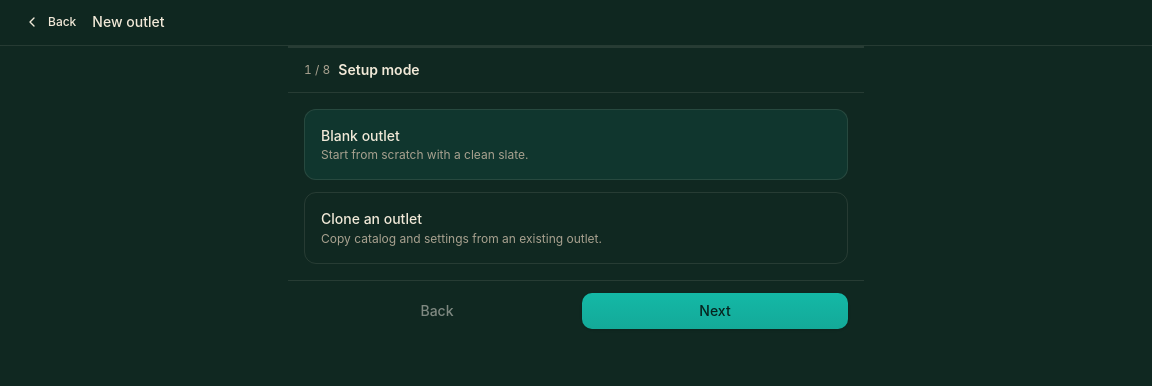
Test: CockpitOutletNew wizard › step 1: blocks Next when code matches an existing outlet code
Click the button with test id "btn-next".
click(715, 310)  # box [582, 292, 848, 328]
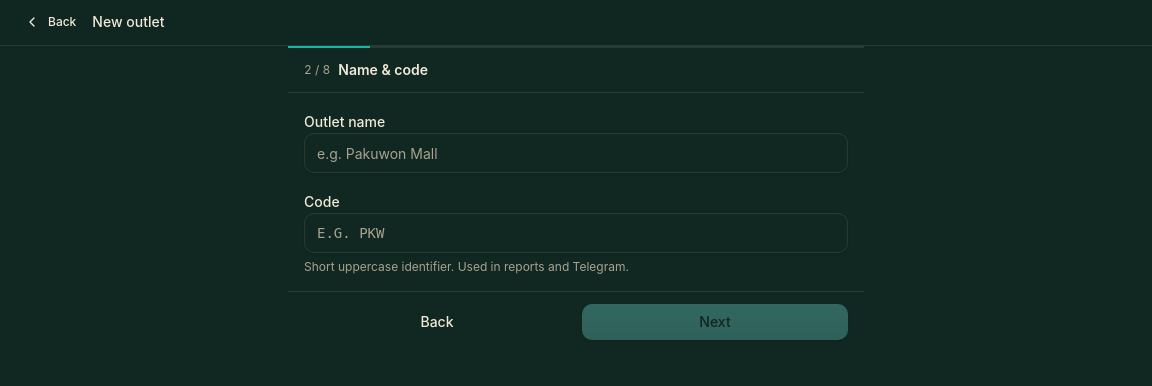
Check: the field labelled "Outlet name" is shown
Type "Another Outlet" into the field labelled "Outlet name".
click(576, 153); type("Another Outlet")  # box [304, 133, 848, 173]
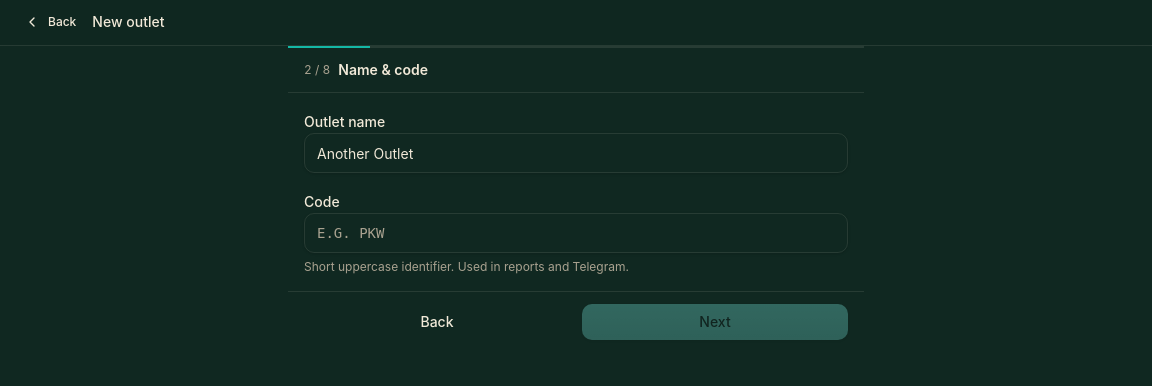
Type "pkw" into the field labelled "Code".
click(576, 233); type("pkw")  # box [304, 213, 848, 253]
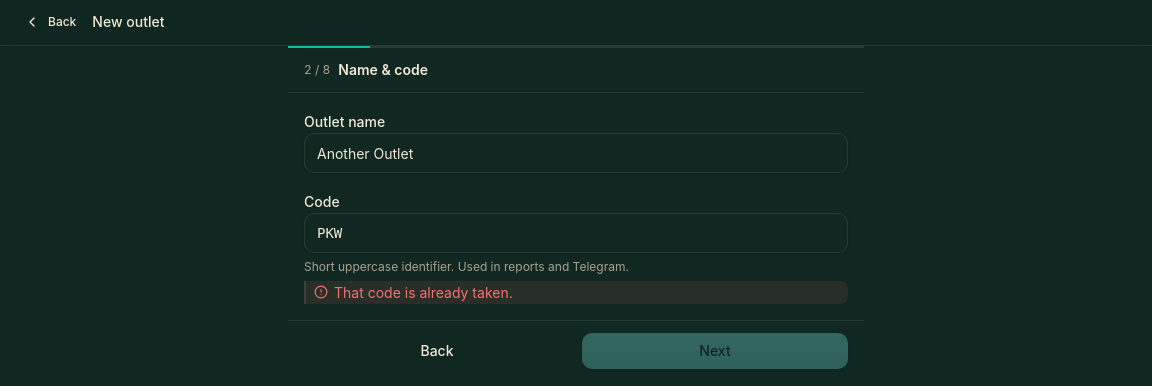
Check: the button with test id "btn-next" is disabled, box [582, 333, 848, 369]
Check: the message "That code is already taken." is shown, box [304, 281, 848, 304]
Check: the message shows "already taken", box [334, 284, 513, 301]
